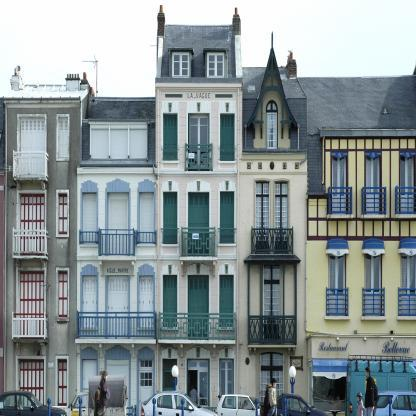Balcony: (159, 312, 236, 342), (77, 310, 156, 339), (248, 316, 296, 345), (252, 228, 293, 254), (182, 226, 216, 257), (99, 228, 135, 257), (12, 313, 47, 341), (13, 152, 48, 180), (12, 230, 48, 257), (185, 143, 213, 171), (362, 187, 386, 214), (328, 187, 351, 214), (326, 289, 349, 316), (362, 289, 385, 316), (395, 187, 416, 214), (398, 289, 416, 316)
Building Outline: (0, 5, 416, 416)
Cornice: (325, 237, 349, 256), (361, 238, 385, 256), (398, 237, 416, 256), (106, 178, 130, 192), (186, 179, 211, 192), (105, 346, 130, 359), (186, 262, 210, 275), (186, 346, 210, 359), (186, 101, 211, 113), (138, 179, 155, 192), (161, 101, 179, 113), (218, 101, 236, 113), (81, 180, 98, 192), (81, 347, 98, 359), (161, 347, 178, 359), (138, 264, 154, 276), (138, 347, 154, 359), (162, 180, 179, 191), (219, 180, 236, 191), (81, 264, 98, 275), (219, 263, 234, 275), (162, 264, 178, 275), (218, 347, 234, 358), (365, 152, 381, 158), (332, 152, 347, 158), (400, 152, 415, 158)
Deco: (187, 92, 210, 99)
Dont: (141, 365, 330, 416), (0, 370, 128, 416), (345, 355, 416, 416)
Door: (18, 193, 45, 256), (18, 271, 44, 336), (18, 358, 44, 416), (19, 118, 45, 174), (107, 275, 129, 339), (107, 192, 129, 256), (188, 275, 209, 340), (189, 192, 210, 257), (106, 359, 129, 416), (188, 113, 209, 171), (259, 368, 284, 416), (187, 368, 210, 416), (263, 282, 281, 340), (329, 253, 345, 316), (365, 253, 381, 316), (401, 253, 416, 316), (400, 152, 415, 214), (332, 152, 347, 214), (366, 152, 381, 214), (274, 196, 289, 254), (255, 196, 270, 254), (139, 370, 153, 416)
Facade: (6, 97, 416, 416)
Floor: (6, 260, 306, 345), (6, 181, 306, 257)
Floor Slab: (6, 345, 416, 349), (6, 257, 306, 261), (6, 177, 306, 181), (306, 215, 415, 221), (156, 83, 240, 87)
Ground Floor: (6, 349, 416, 416), (306, 221, 415, 345)
Roof: (278, 66, 416, 193), (77, 97, 156, 167), (161, 24, 236, 78), (242, 66, 266, 148), (3, 84, 89, 101), (290, 120, 298, 149)
Shop: (313, 360, 349, 414), (382, 341, 410, 353), (318, 341, 348, 351), (290, 356, 303, 371)
Top Floor: (306, 99, 415, 215), (6, 99, 156, 177), (156, 87, 240, 178), (240, 99, 306, 177), (158, 28, 240, 82)
Window: (220, 191, 235, 244), (163, 191, 178, 244), (219, 275, 234, 327), (220, 359, 235, 411), (162, 359, 177, 411), (163, 275, 177, 327), (140, 276, 154, 328), (140, 192, 154, 244), (83, 192, 97, 244), (83, 276, 97, 328), (83, 360, 97, 412), (220, 113, 235, 161), (163, 113, 178, 160), (266, 100, 278, 149), (129, 129, 147, 158), (110, 129, 128, 158), (91, 129, 108, 158), (57, 359, 67, 407), (58, 270, 68, 317), (172, 52, 190, 78), (207, 53, 225, 78), (259, 352, 285, 368), (59, 117, 69, 157), (58, 193, 67, 234), (263, 264, 281, 282), (255, 180, 270, 196), (274, 180, 289, 196), (187, 359, 210, 368), (139, 359, 153, 369), (280, 74, 286, 80), (249, 86, 255, 91)
